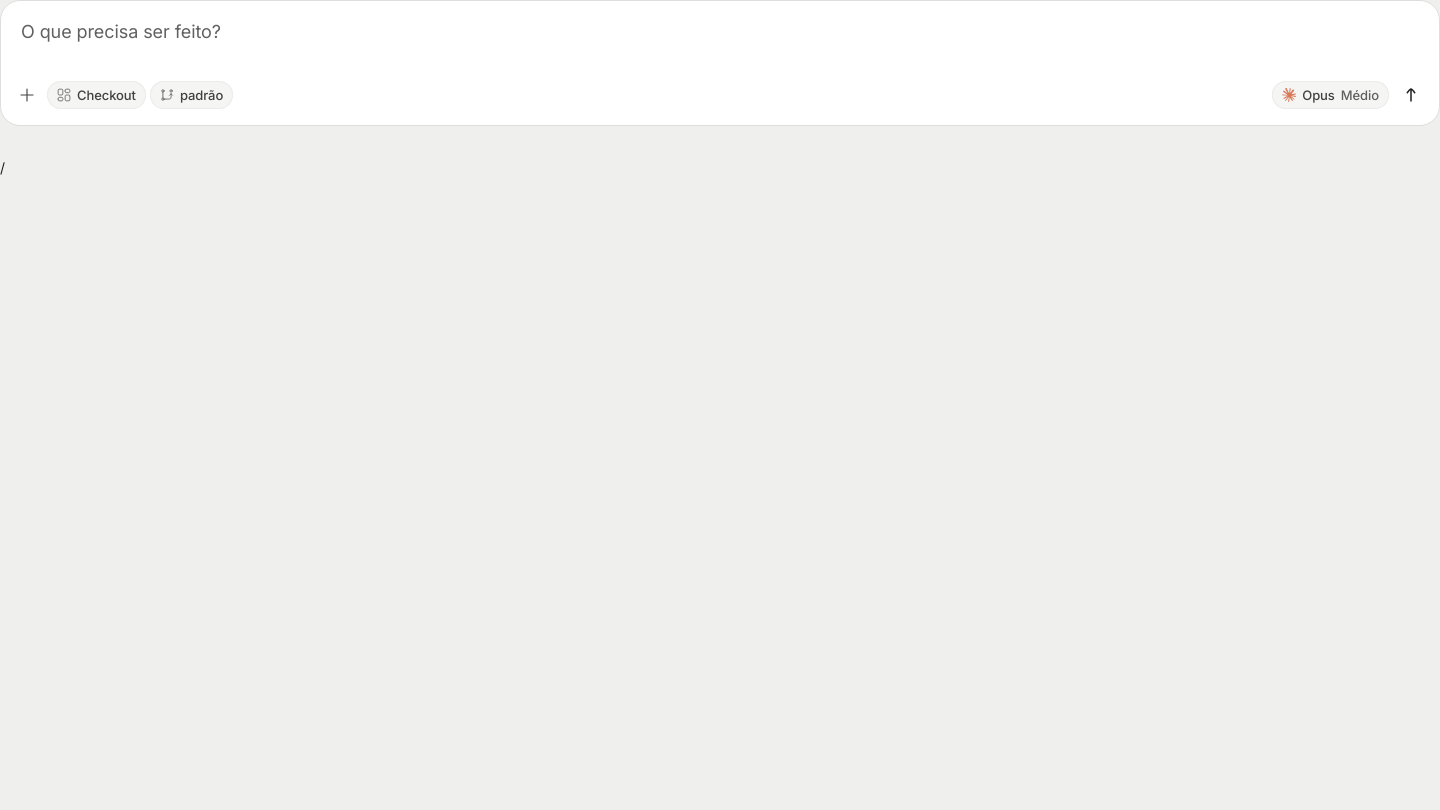
Scenario: aplicações no composer › adicionar aplicação leva para as configurações com a nova aplicação já aberta
The width and height of the screenshot is (1440, 810).
Press Enter in the dropdown named "Aplicação: Checkout", box [47,81,146,109]
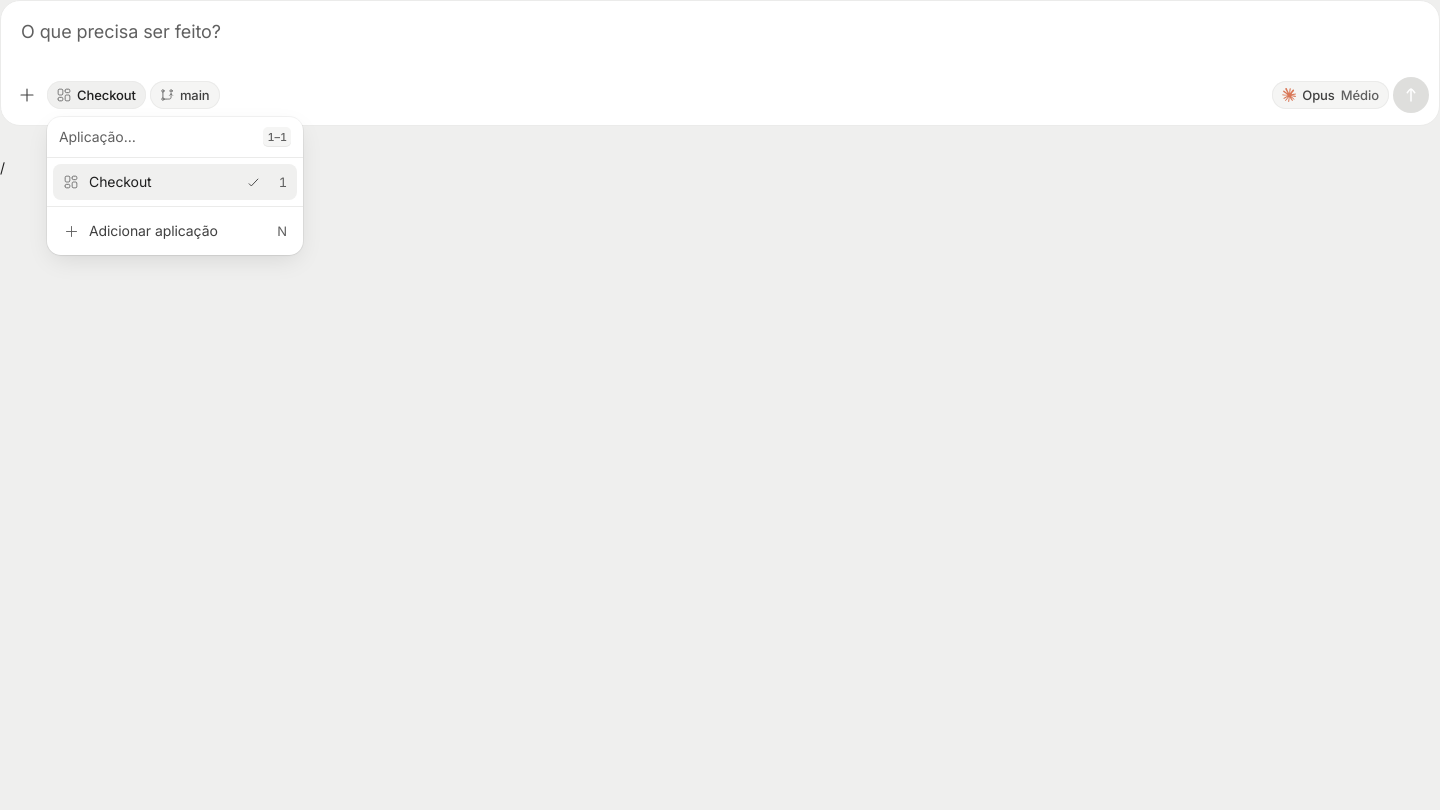
Click the option "Adicionar aplicação N": (175, 230) [64,222,287,239]
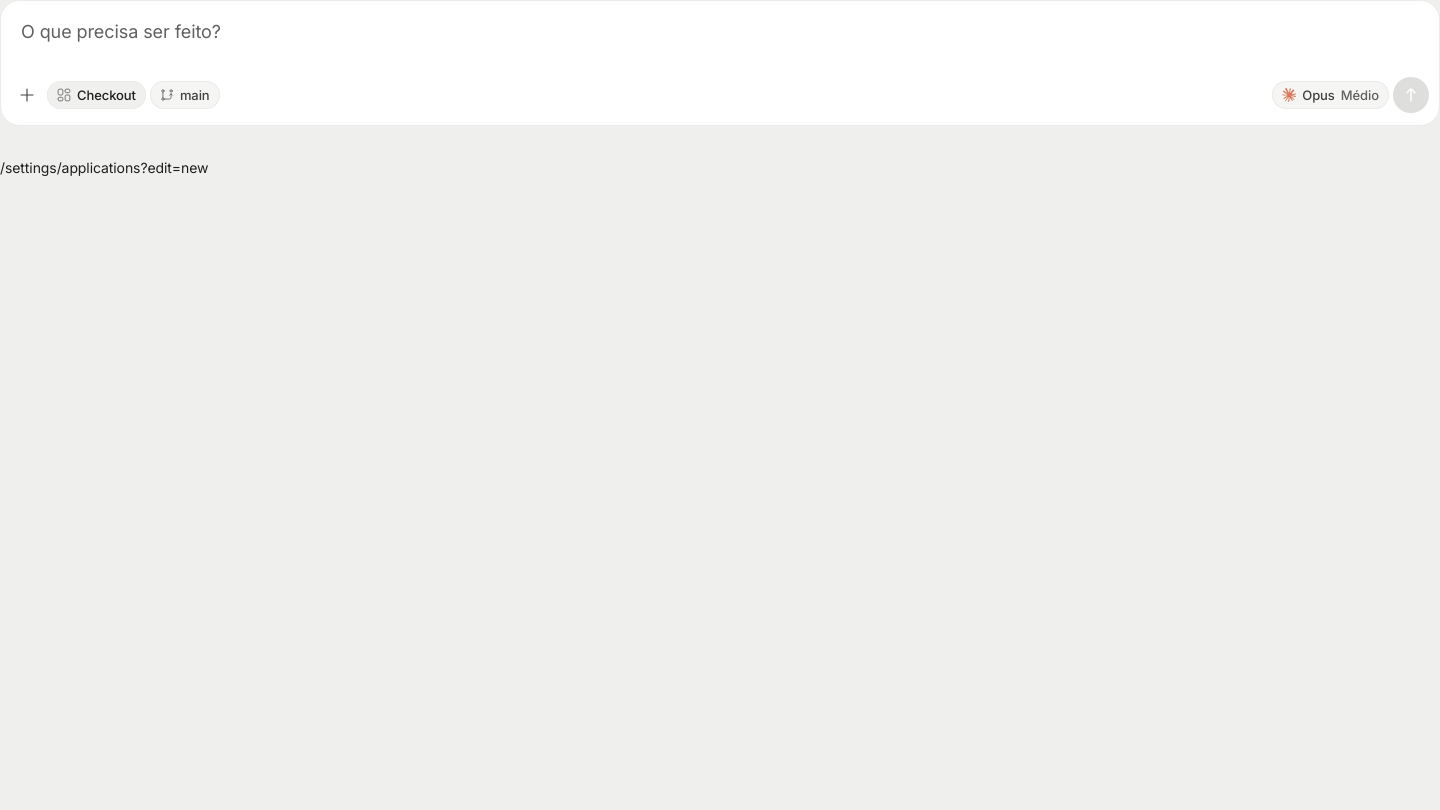
Check: the text with test id "where" reads "/settings/applications?edit=new", box [0,159,208,176]
